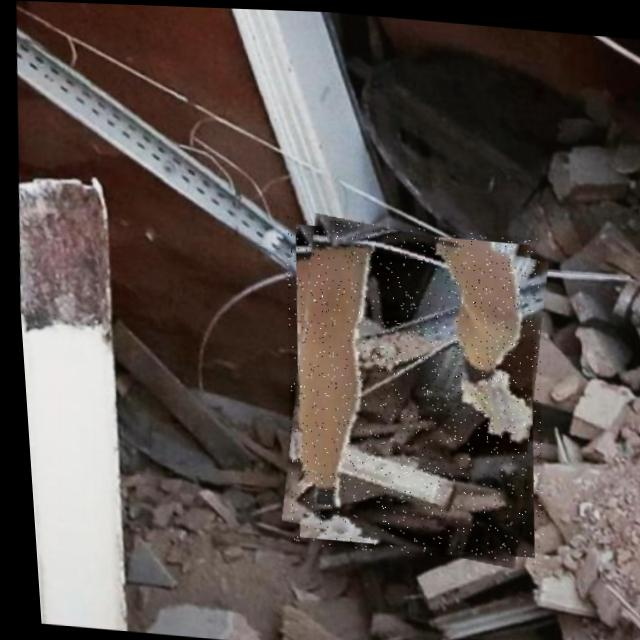Person in Rubble: (266, 213, 553, 562)
